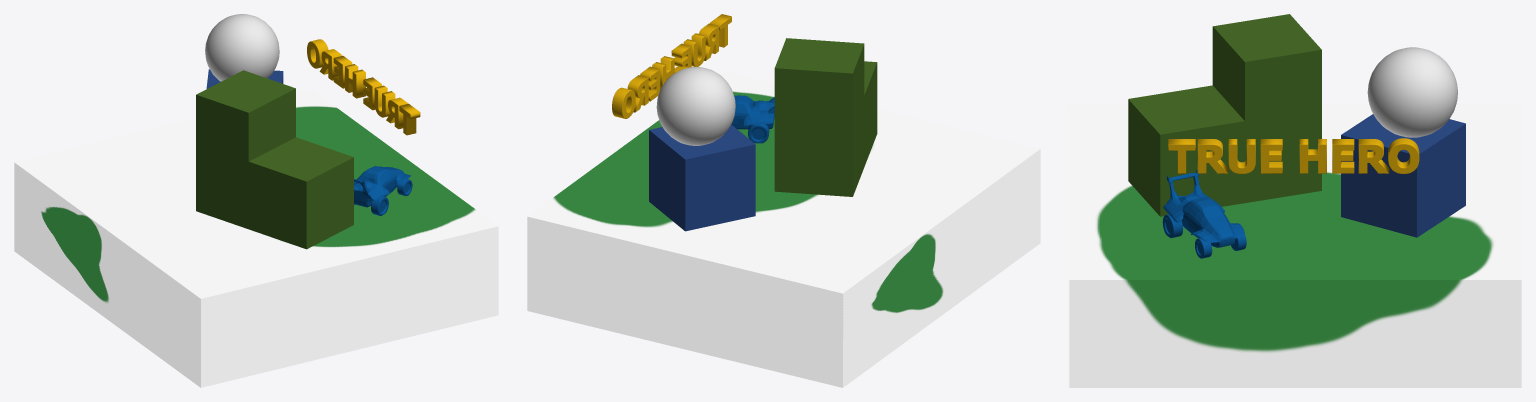
File: testmodel.glb
The picture shows the model from 3 angles, left to right: view 1: azimuth 30°, elevation 25°; view 2: azimuth 150°, elevation 25°; view 3: azimuth 270°, elevation 25°; orthographic projection. The views are drawn at different scales.
Visible parts, largest first — view 1: Cube; view 2: Cube; view 3: Cube.
Part boxes in pixels (x1,y1,x2,y2): Cube: (14,14,498,387); Cube: (527,14,1040,387); Cube: (1069,14,1521,387).
Bounding box in the file's own units: 9.2 × 6.55 × 9.99.
6 materials, 2 textured.
